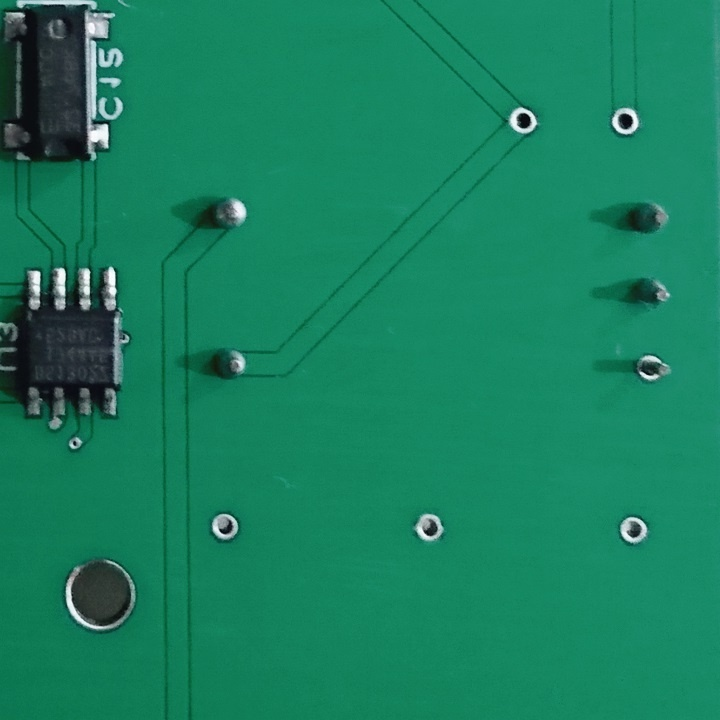F: (632, 349, 672, 388), (504, 103, 541, 140), (410, 509, 447, 545), (207, 507, 242, 545), (618, 513, 653, 547), (610, 106, 645, 140)
